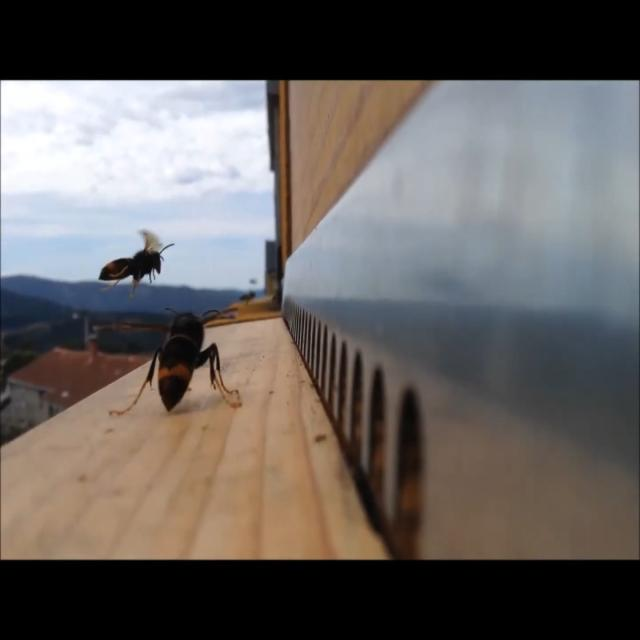Hornets: (111, 308, 245, 418), (99, 230, 176, 296)
